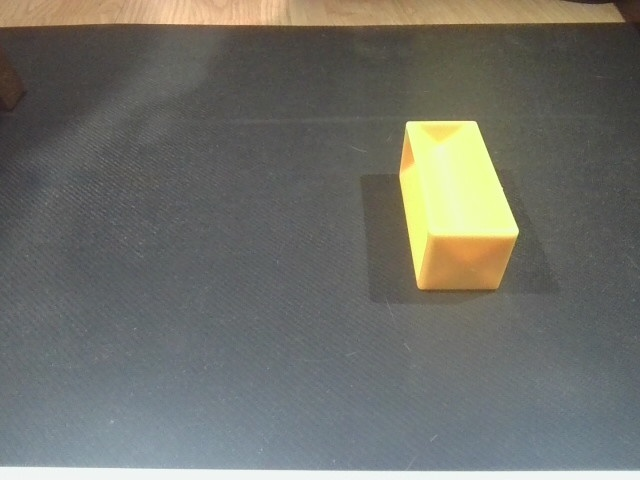YellowSample: (396, 116, 522, 295)
